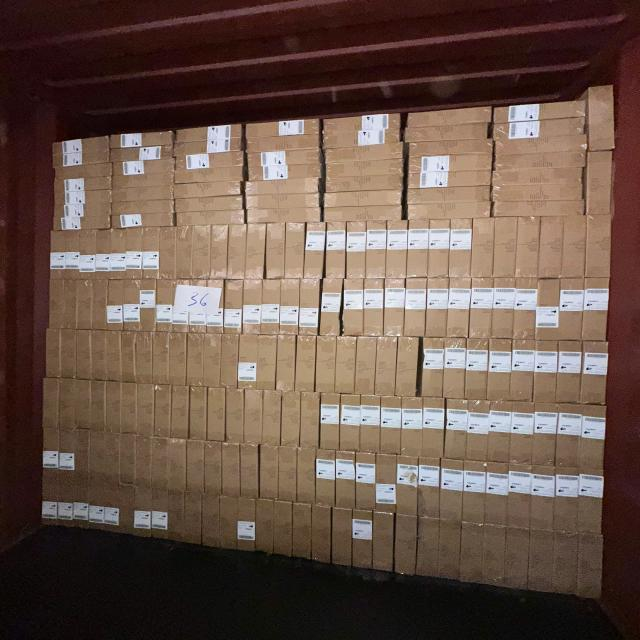Carton: (493, 114, 586, 141), (493, 98, 586, 124), (494, 132, 588, 156), (585, 82, 615, 150), (408, 104, 493, 128), (494, 148, 586, 170), (492, 164, 584, 186), (406, 184, 493, 206), (580, 403, 608, 470), (408, 152, 493, 174), (407, 168, 492, 190), (405, 121, 489, 143), (322, 127, 402, 150), (324, 141, 404, 164), (585, 215, 613, 280), (325, 156, 404, 179), (583, 280, 611, 344), (586, 150, 614, 214), (555, 404, 582, 470), (508, 464, 534, 532), (407, 200, 491, 221), (492, 198, 584, 217), (553, 465, 579, 532), (578, 466, 604, 533), (582, 340, 609, 404), (510, 400, 536, 465), (552, 530, 578, 595), (321, 114, 404, 134), (492, 184, 584, 202), (245, 118, 320, 140), (530, 464, 555, 530), (393, 514, 419, 577), (560, 216, 586, 279), (436, 521, 461, 586), (324, 173, 405, 193), (529, 527, 553, 594), (578, 532, 602, 599), (439, 459, 464, 523), (46, 330, 78, 380), (408, 138, 492, 157), (484, 462, 508, 528), (505, 525, 529, 591), (557, 340, 582, 403), (559, 280, 584, 343), (245, 133, 320, 154), (482, 523, 506, 588), (419, 336, 444, 398), (537, 217, 562, 279), (417, 517, 442, 579), (533, 341, 557, 405), (464, 462, 488, 526), (534, 403, 558, 467), (488, 339, 512, 402), (512, 338, 536, 401), (488, 401, 512, 464), (538, 279, 562, 342), (460, 522, 484, 585), (325, 189, 404, 208), (466, 340, 490, 402), (418, 460, 442, 522), (512, 279, 536, 341), (247, 148, 321, 168), (468, 279, 492, 340), (395, 457, 419, 518), (516, 218, 540, 279), (446, 398, 469, 461), (444, 337, 467, 399), (466, 400, 489, 462), (373, 511, 396, 573), (323, 204, 402, 222), (425, 280, 449, 339), (472, 218, 495, 279), (422, 398, 445, 459), (396, 337, 419, 398), (492, 279, 515, 340), (245, 193, 322, 211), (401, 398, 424, 458), (351, 510, 374, 570), (175, 150, 244, 170), (448, 280, 471, 339), (405, 280, 428, 339), (449, 220, 472, 279), (427, 220, 450, 279), (354, 452, 377, 511), (174, 166, 245, 185), (110, 131, 177, 151), (248, 163, 322, 181), (173, 180, 243, 199), (494, 218, 516, 278), (374, 336, 396, 396), (354, 337, 376, 397), (408, 220, 430, 280), (333, 508, 355, 568), (374, 456, 396, 516), (175, 124, 241, 144), (311, 506, 333, 565), (386, 221, 408, 280), (246, 207, 322, 224), (175, 208, 246, 226), (343, 280, 365, 338), (320, 280, 342, 338), (383, 280, 405, 338), (291, 503, 313, 561), (305, 222, 327, 280), (256, 500, 278, 558), (315, 448, 336, 508), (110, 142, 173, 162), (245, 179, 319, 196), (315, 337, 337, 394), (362, 281, 384, 338), (284, 223, 306, 280), (236, 497, 258, 554), (381, 397, 402, 456), (336, 450, 357, 509), (266, 224, 288, 280), (238, 335, 260, 391), (174, 138, 242, 156), (365, 222, 386, 280), (346, 223, 367, 281), (337, 337, 358, 394), (276, 336, 297, 393), (341, 395, 362, 452), (325, 222, 346, 279), (50, 136, 113, 155), (360, 398, 380, 457), (297, 336, 318, 392), (300, 281, 321, 337), (174, 195, 243, 212), (320, 394, 340, 452), (295, 450, 315, 508), (52, 176, 116, 194), (111, 171, 175, 189), (299, 393, 319, 450), (281, 392, 301, 449), (262, 280, 282, 337), (274, 501, 294, 558), (182, 491, 203, 545), (91, 331, 113, 382), (280, 281, 300, 337), (244, 391, 264, 447), (246, 224, 266, 280), (243, 279, 263, 335), (189, 280, 209, 336), (52, 148, 108, 168), (111, 158, 176, 175), (110, 198, 175, 215), (54, 161, 112, 180), (190, 386, 210, 441), (261, 445, 281, 500), (240, 444, 260, 499), (204, 442, 224, 497), (227, 388, 247, 443), (225, 282, 245, 337), (259, 335, 279, 390), (110, 212, 174, 229), (171, 388, 191, 442), (220, 334, 240, 388), (185, 440, 205, 494), (157, 279, 177, 333), (171, 281, 191, 335), (111, 185, 174, 202), (229, 225, 248, 281), (264, 392, 283, 448), (279, 446, 298, 502), (152, 386, 171, 442), (203, 334, 222, 389), (210, 225, 229, 280), (137, 383, 156, 438), (208, 389, 227, 443), (193, 226, 212, 280), (175, 226, 194, 280), (134, 485, 153, 539), (206, 280, 224, 336), (220, 495, 238, 551), (169, 333, 188, 386), (222, 442, 240, 497), (188, 333, 206, 388), (58, 378, 77, 430), (169, 438, 188, 490), (41, 475, 60, 527), (54, 189, 112, 206), (152, 436, 170, 490), (136, 332, 154, 385), (151, 333, 169, 386), (160, 227, 178, 280), (124, 279, 142, 332), (109, 228, 127, 281), (53, 202, 112, 218), (52, 216, 111, 232), (142, 228, 160, 280), (79, 228, 97, 280), (105, 331, 123, 382), (76, 279, 94, 330), (41, 428, 60, 476), (152, 487, 169, 540), (64, 229, 82, 279), (41, 378, 59, 428), (202, 493, 218, 549), (121, 382, 138, 434), (119, 483, 136, 535), (76, 331, 93, 382), (92, 279, 109, 330), (169, 489, 185, 543), (50, 229, 67, 279), (58, 477, 75, 527), (122, 332, 138, 385), (109, 279, 125, 332), (103, 483, 120, 532), (95, 228, 111, 280), (126, 228, 142, 280), (104, 431, 120, 483), (120, 432, 136, 484), (74, 476, 90, 528), (48, 280, 65, 328), (90, 381, 106, 431), (105, 382, 121, 432), (59, 428, 75, 478), (136, 436, 152, 486), (75, 380, 91, 429), (142, 279, 156, 332), (75, 429, 90, 478), (89, 481, 104, 530), (64, 279, 78, 330), (90, 430, 104, 479)
